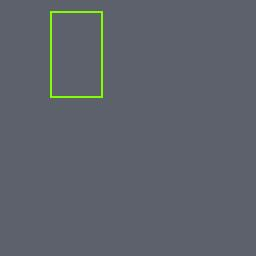Safety Vest: (50, 11, 102, 97)
